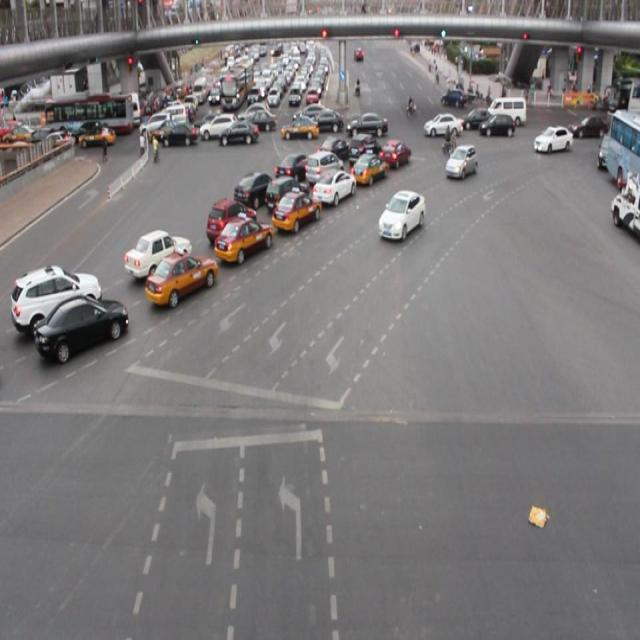car: (35, 292, 127, 362), (10, 264, 102, 325), (145, 251, 216, 306), (124, 229, 191, 277), (214, 213, 273, 261), (378, 188, 424, 240), (206, 198, 256, 244), (271, 189, 320, 232), (264, 175, 308, 214), (312, 167, 355, 205), (235, 171, 276, 207), (273, 152, 313, 187), (351, 150, 388, 185), (444, 142, 476, 178), (347, 132, 379, 164), (378, 138, 409, 170), (314, 135, 348, 164)
truck: (304, 152, 344, 187)
